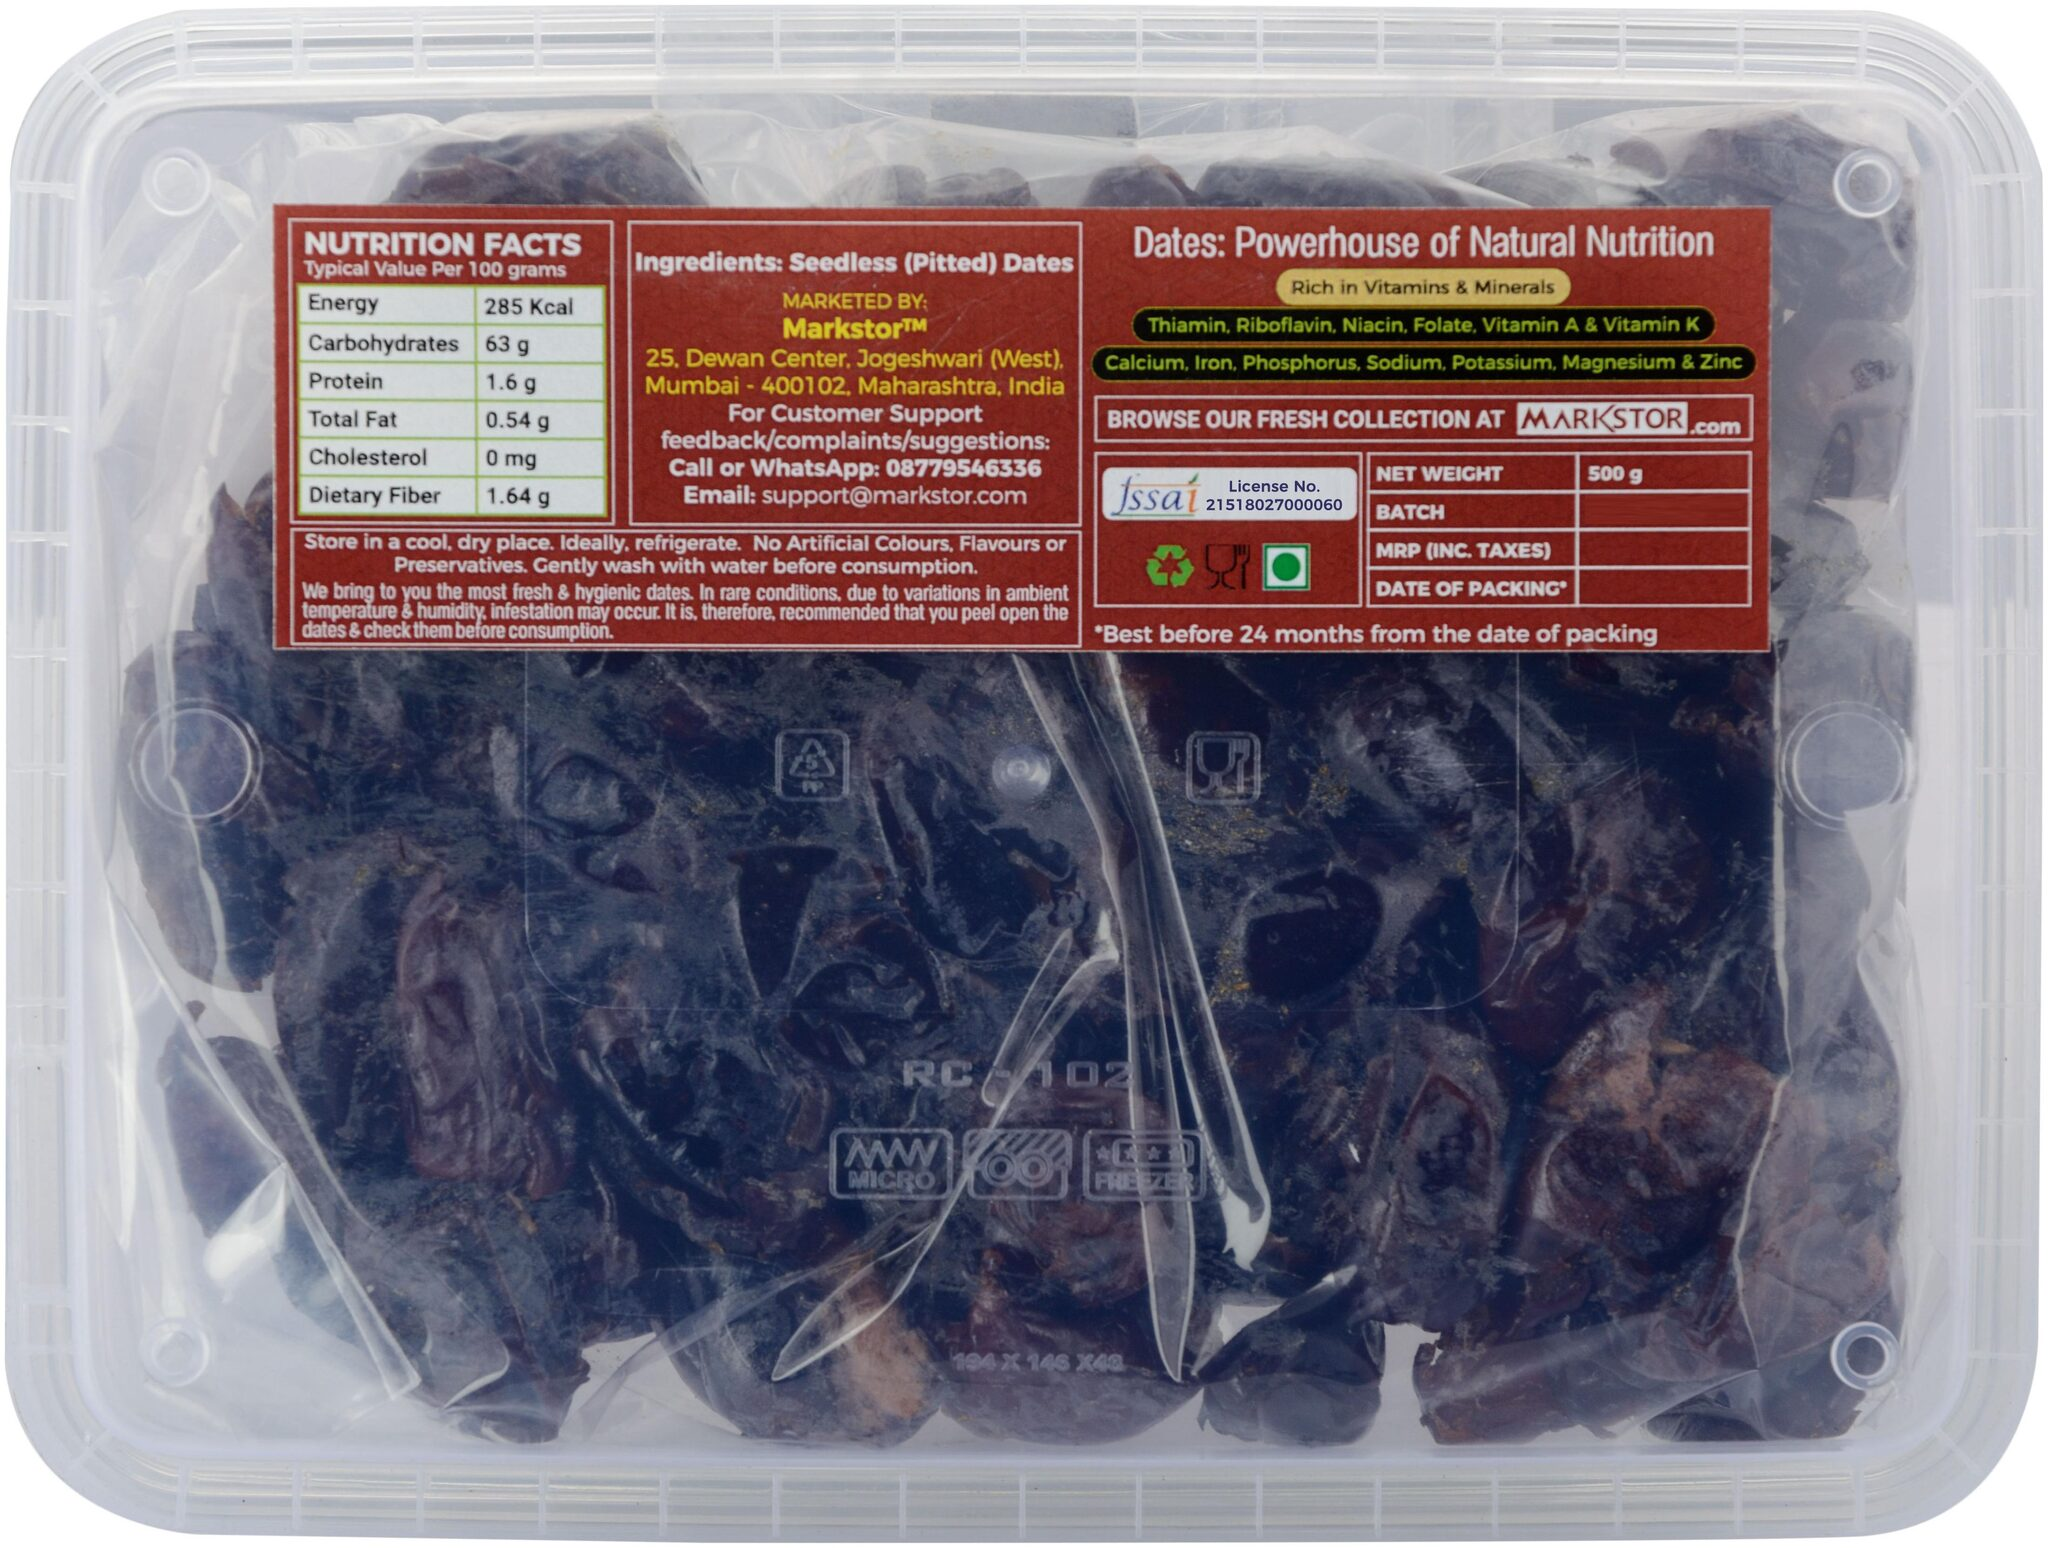fssai: (1109, 472, 1204, 514)
